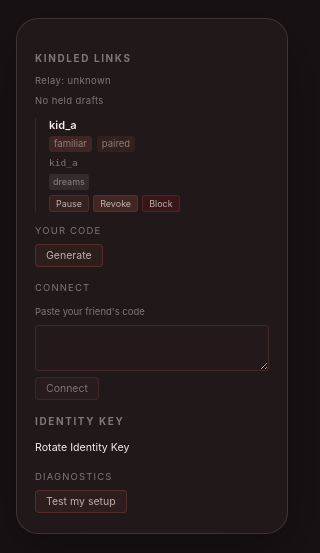
Test: KindledLinksPanel — transcript ordering › does not report a saved revoke as failed when only the list refresh fails (#365 review)
The width and height of the screenshot is (320, 553).
Click the button with aria-label "revoke kid_a" at (116, 203), box [93, 195, 138, 212]
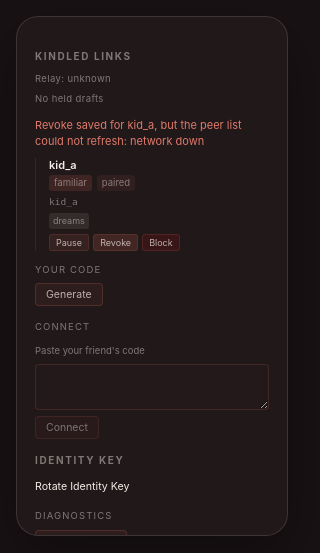
Now the message shows "Revoke saved for kid_a", box [35, 118, 242, 148]
Now the message shows "could not refresh", box [35, 118, 242, 148]
Now the message shows "network down", box [35, 118, 242, 148]
